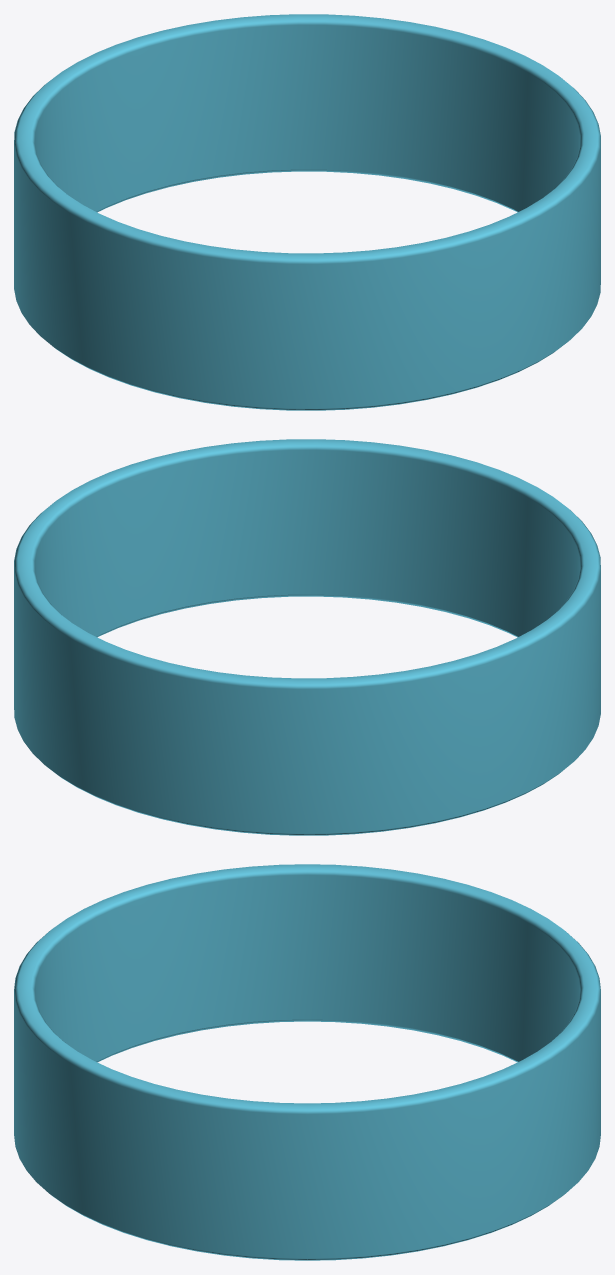
3 views of the same model, one above another, from view 1: azimuth 30°, elevation 25°; view 2: azimuth 150°, elevation 25°; view 3: azimuth 270°, elevation 25° (orthographic).
Parts seen in each view (by area): view 1: seal_body; view 2: seal_body; view 3: seal_body.
Boxes of the visible parts, x1=… form: seal_body: x1=14, y1=14, x2=600, y2=410; seal_body: x1=14, y1=439, x2=600, y2=835; seal_body: x1=14, y1=864, x2=600, y2=1260.
Size of the model in its own units: 0.0889 by 0.0254 by 0.0889.
